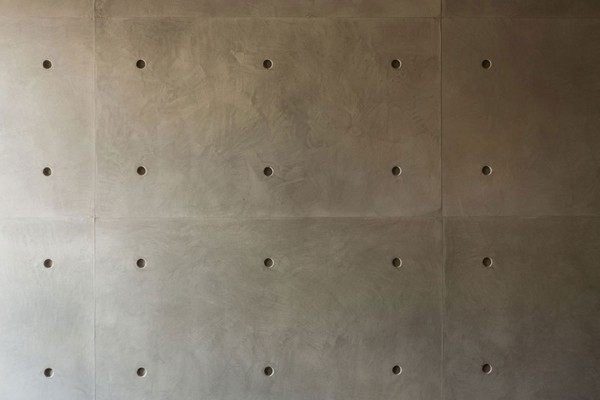hole: (389, 254, 404, 272), (42, 255, 57, 272), (479, 162, 494, 179), (134, 164, 149, 180), (389, 363, 405, 378), (480, 361, 495, 377), (480, 255, 495, 271), (478, 57, 493, 73), (262, 163, 276, 180), (389, 164, 403, 181), (42, 366, 57, 381), (261, 255, 276, 270), (260, 58, 275, 73), (41, 165, 55, 181), (135, 364, 149, 380), (261, 364, 275, 380), (135, 255, 148, 272), (134, 58, 149, 72), (41, 58, 55, 72), (389, 58, 403, 72)
